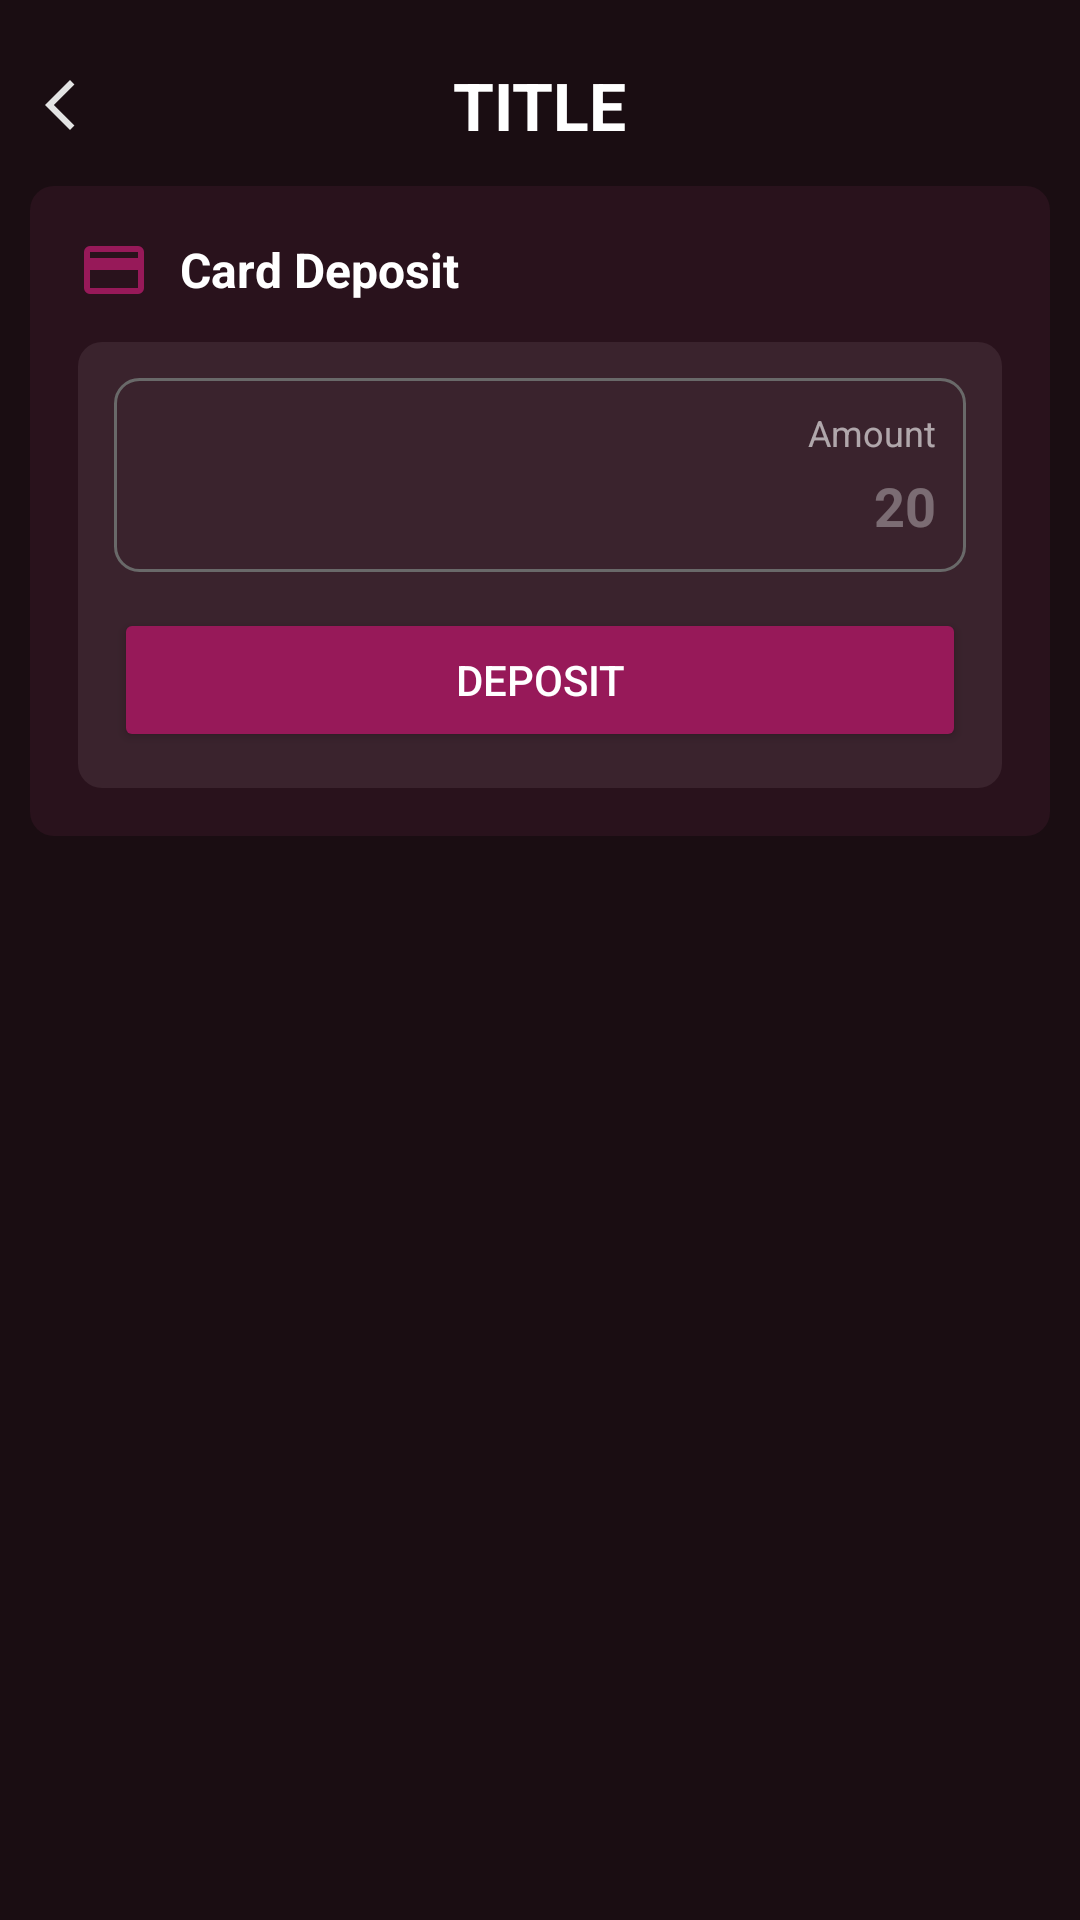

Where to tap for icons on this 1080x1920 app screen, as (x=x, y=y):
Back: (x=60, y=105)
